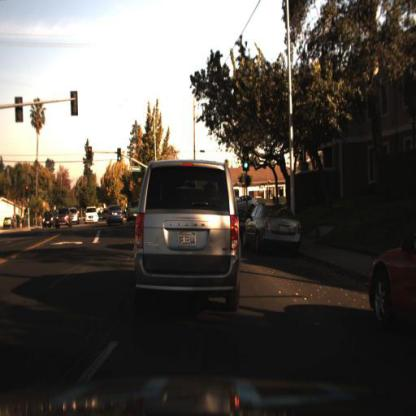car: (133, 154, 246, 318), (367, 215, 416, 345), (244, 201, 300, 257), (106, 201, 128, 230), (105, 201, 125, 230), (237, 188, 259, 214), (55, 210, 75, 233), (83, 203, 103, 226), (126, 198, 138, 225), (44, 209, 58, 229), (3, 215, 15, 235), (70, 206, 80, 229), (71, 208, 80, 226)
pedestrian: (268, 193, 282, 208)
trafficLight: (241, 142, 253, 178), (241, 151, 255, 176)
trafficLight-Green: (117, 145, 124, 164)
trafficLight-Red: (22, 181, 31, 199)
trafficLight-RedLeft: (87, 145, 95, 168), (23, 185, 31, 206)
